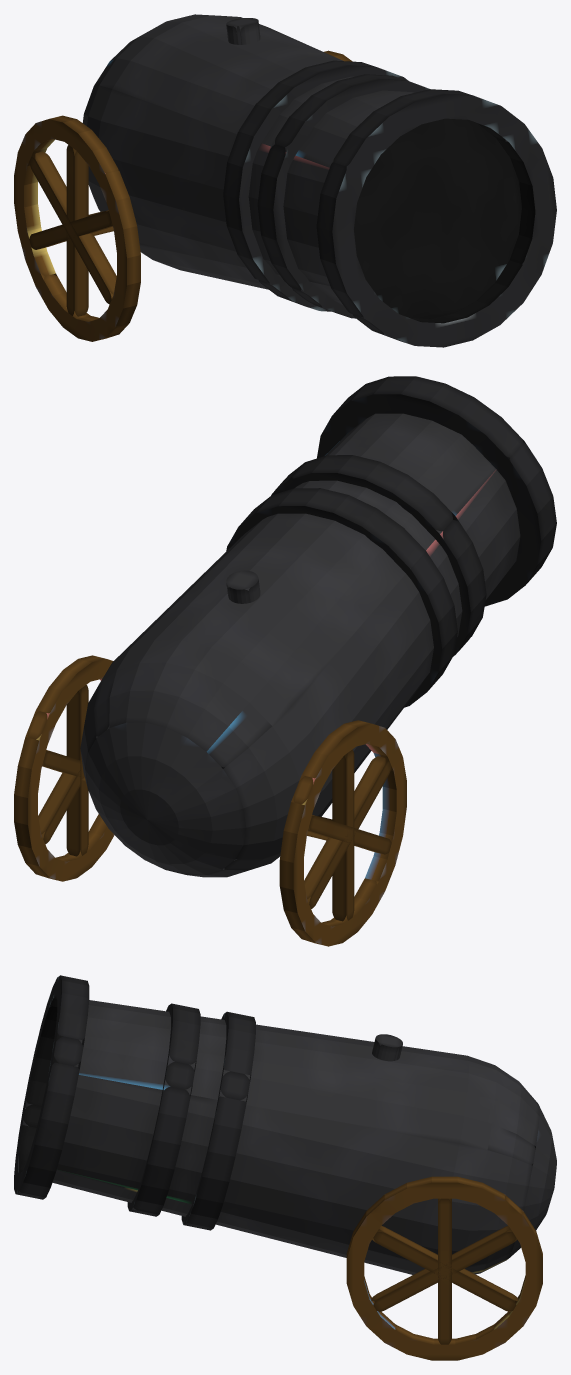
The model's file is cannon.fbx.
3 renders of one model, top to bottom at view 1: azimuth 30°, elevation 25°; view 2: azimuth 150°, elevation 25°; view 3: azimuth 270°, elevation 25°, orthographic. The views are drawn at different scales.
Parts seen in each view (by area): view 1: cylinder, tube, tube_4, tube_1, tube_2, cuboid_4, cuboid_7, sphere, cuboid_5, cylinder_1; view 2: cylinder, sphere, tube, tube_4, tube_2, tube_1, tube_3, cuboid_7, cuboid_5, cuboid, cuboid_1, cuboid_4 (+1 smaller); view 3: cylinder, sphere, tube_3, tube, tube_2, tube_1, cuboid_2, cuboid_1, cuboid, cylinder_1.
Part boxes in pixels (<box>): cylinder: <box>98,15,521,318</box>; tube: <box>316,89,556,347</box>; tube_4: <box>14,115,140,341</box>; tube_1: <box>257,74,430,318</box>; tube_2: <box>223,60,408,311</box>; cuboid_4: <box>29,151,116,304</box>; cuboid_7: <box>66,145,88,316</box>; sphere: <box>82,14,231,258</box>; cuboid_5: <box>29,210,112,249</box>; cylinder_1: <box>226,18,260,44</box>; cylinder: <box>113,413,520,816</box>; sphere: <box>80,640,324,877</box>; tube: <box>317,376,556,606</box>; tube_4: <box>279,720,406,946</box>; tube_2: <box>226,488,457,707</box>; tube_1: <box>271,455,486,656</box>; tube_3: <box>14,655,114,881</box>; cuboid_7: <box>332,749,354,921</box>; cuboid_5: <box>304,756,391,908</box>; cuboid: <box>66,685,88,856</box>; cuboid_1: <box>38,770,80,844</box>; cuboid_4: <box>308,815,391,854</box>; cylinder: <box>52,1000,468,1274</box>; sphere: <box>434,1056,556,1274</box>; tube_3: <box>346,1176,542,1360</box>; tube: <box>14,975,89,1199</box>; tube_2: <box>181,1011,255,1230</box>; tube_1: <box>127,1003,200,1216</box>; cuboid_2: <box>371,1226,517,1311</box>; cuboid_1: <box>372,1225,518,1312</box>; cuboid: <box>438,1198,451,1344</box>; cylinder_1: <box>372,1034,402,1061</box>.
Bounding box in the file's own units: 62.5 × 77.32 × 121.
1 material, 1 textured.
